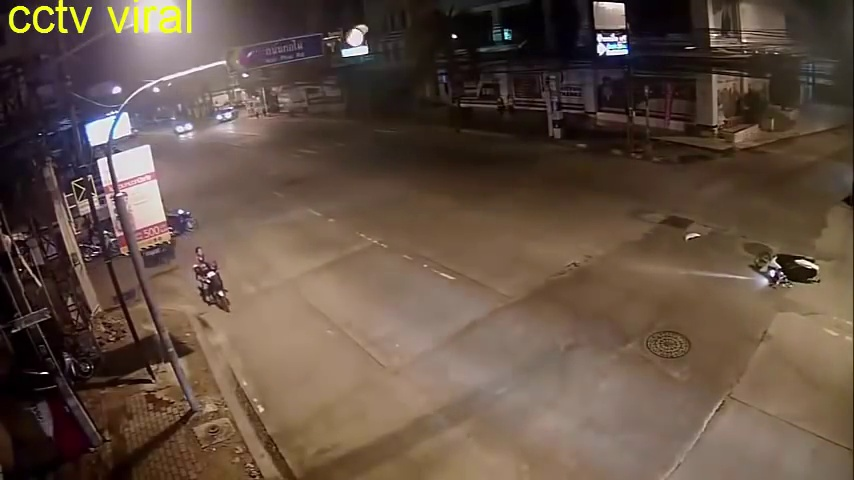car: (175, 118, 194, 136), (216, 106, 236, 122)
motorbike: (191, 247, 232, 311)
